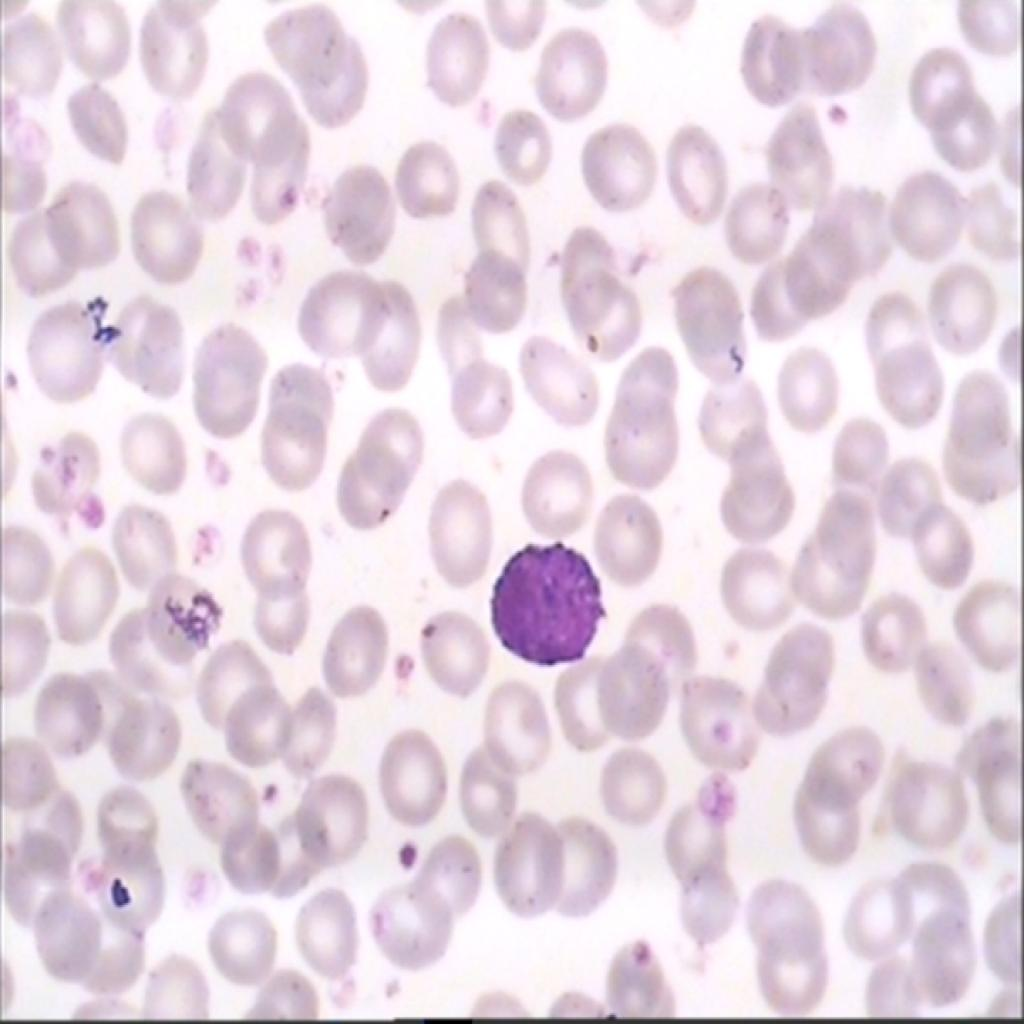Basofil: (489, 539, 606, 681)
Platelet: (242, 756, 293, 823), (68, 485, 124, 535), (618, 238, 658, 290), (387, 826, 424, 876), (624, 924, 657, 978), (98, 868, 132, 919), (822, 94, 855, 146), (232, 277, 270, 320), (580, 314, 608, 372), (202, 444, 232, 498), (703, 775, 738, 821), (178, 521, 219, 556), (386, 642, 418, 682), (259, 235, 287, 279), (228, 228, 258, 266), (4, 362, 24, 418), (712, 708, 732, 752), (32, 441, 56, 471)
